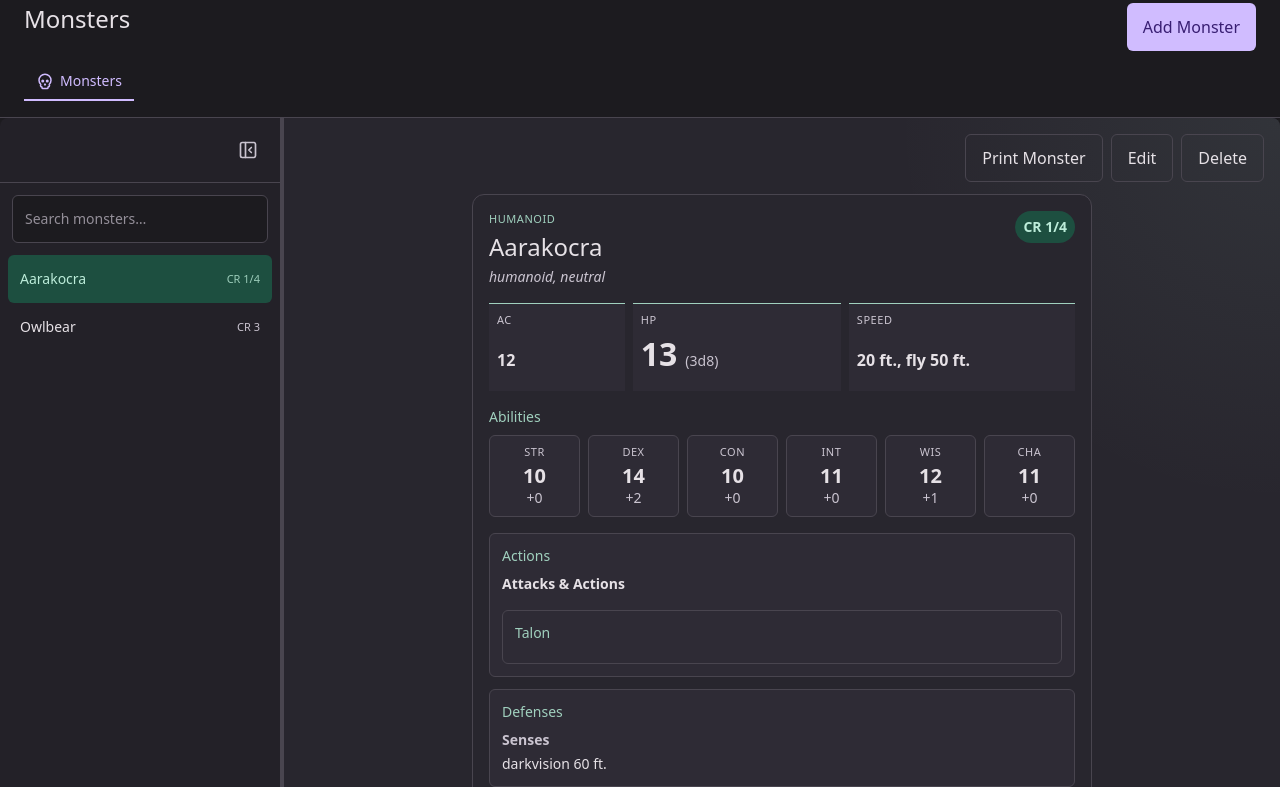
it: MonsterBrowserPage › selecting a monster shows its stat block details
The width and height of the screenshot is (1280, 787).
Click the text "Owlbear".
click(48, 327)  # box [20,317,76,337]
(page scrolled)
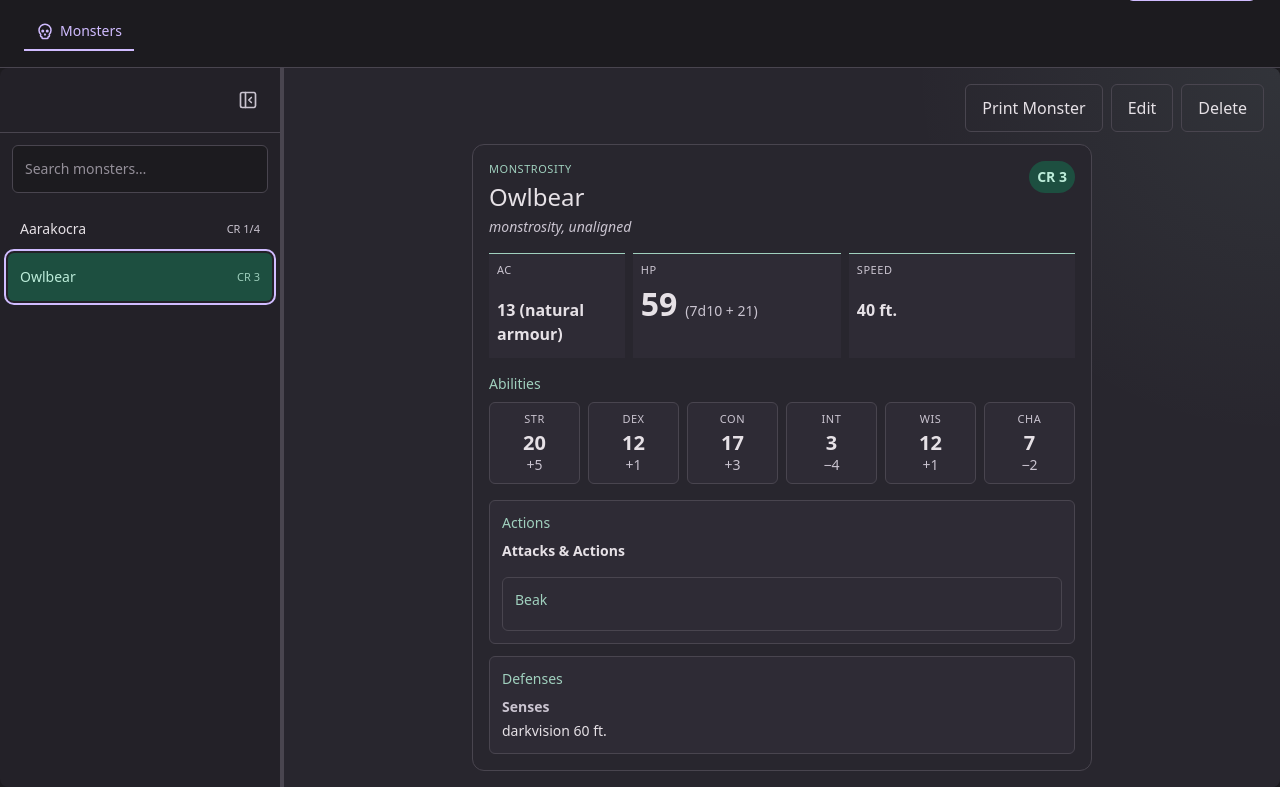
Expected: the text "darkvision 60 ft." is shown, [502,721,607,740]
Now the heading "Owlbear" is shown, box [489,180,584,213]
